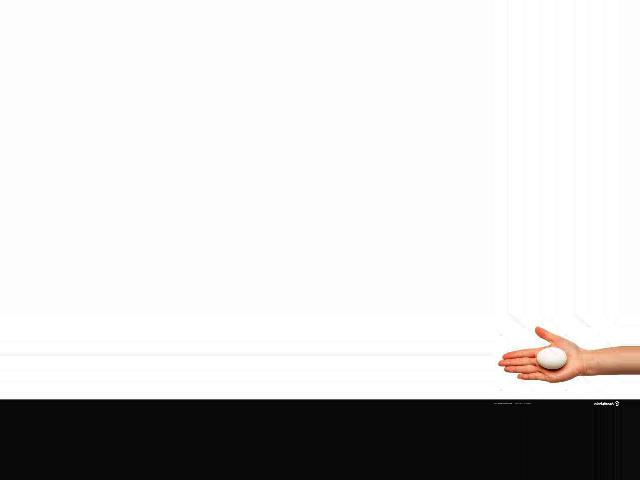egg: (536, 348, 566, 368)
